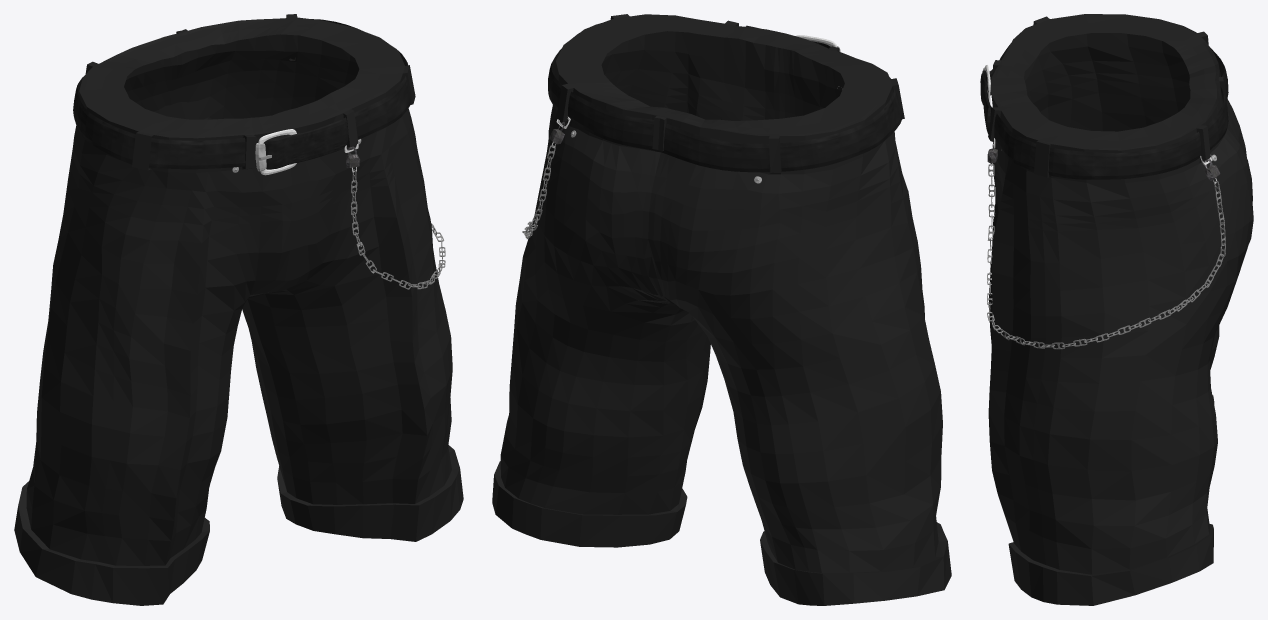
The model's file is mhw_elvs_male_trouser_short_1.glb.
3 renders of one model, left to right at view 1: azimuth 30°, elevation 25°; view 2: azimuth 150°, elevation 25°; view 3: azimuth 270°, elevation 25°, orthographic. The views are drawn at different scales.
Visible parts, largest first — view 1: mhw_elvs_male_trouser_short_1; view 2: mhw_elvs_male_trouser_short_1; view 3: mhw_elvs_male_trouser_short_1.
Boxes of the visible parts, x1,y1,x2,y2 form: mhw_elvs_male_trouser_short_1: [14, 14, 463, 605]; mhw_elvs_male_trouser_short_1: [492, 14, 951, 605]; mhw_elvs_male_trouser_short_1: [980, 14, 1253, 605].
Bounding box in the file's own units: 0.4645 × 0.4926 × 0.2752.
Materials: 1 (1 with a texture image).
